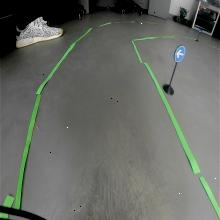left: (174, 46, 186, 62)
